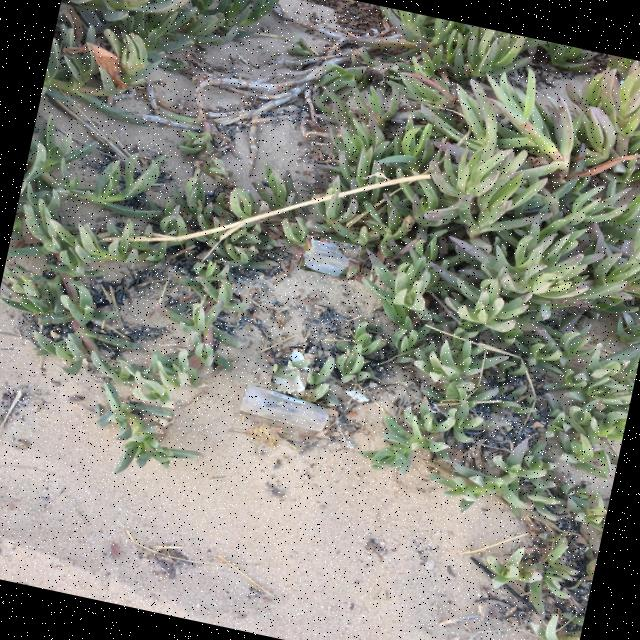Plastic film: (241, 384, 328, 431), (303, 235, 358, 276)
Styrofoam piece: (272, 369, 305, 393), (290, 352, 310, 375), (345, 390, 368, 402)
